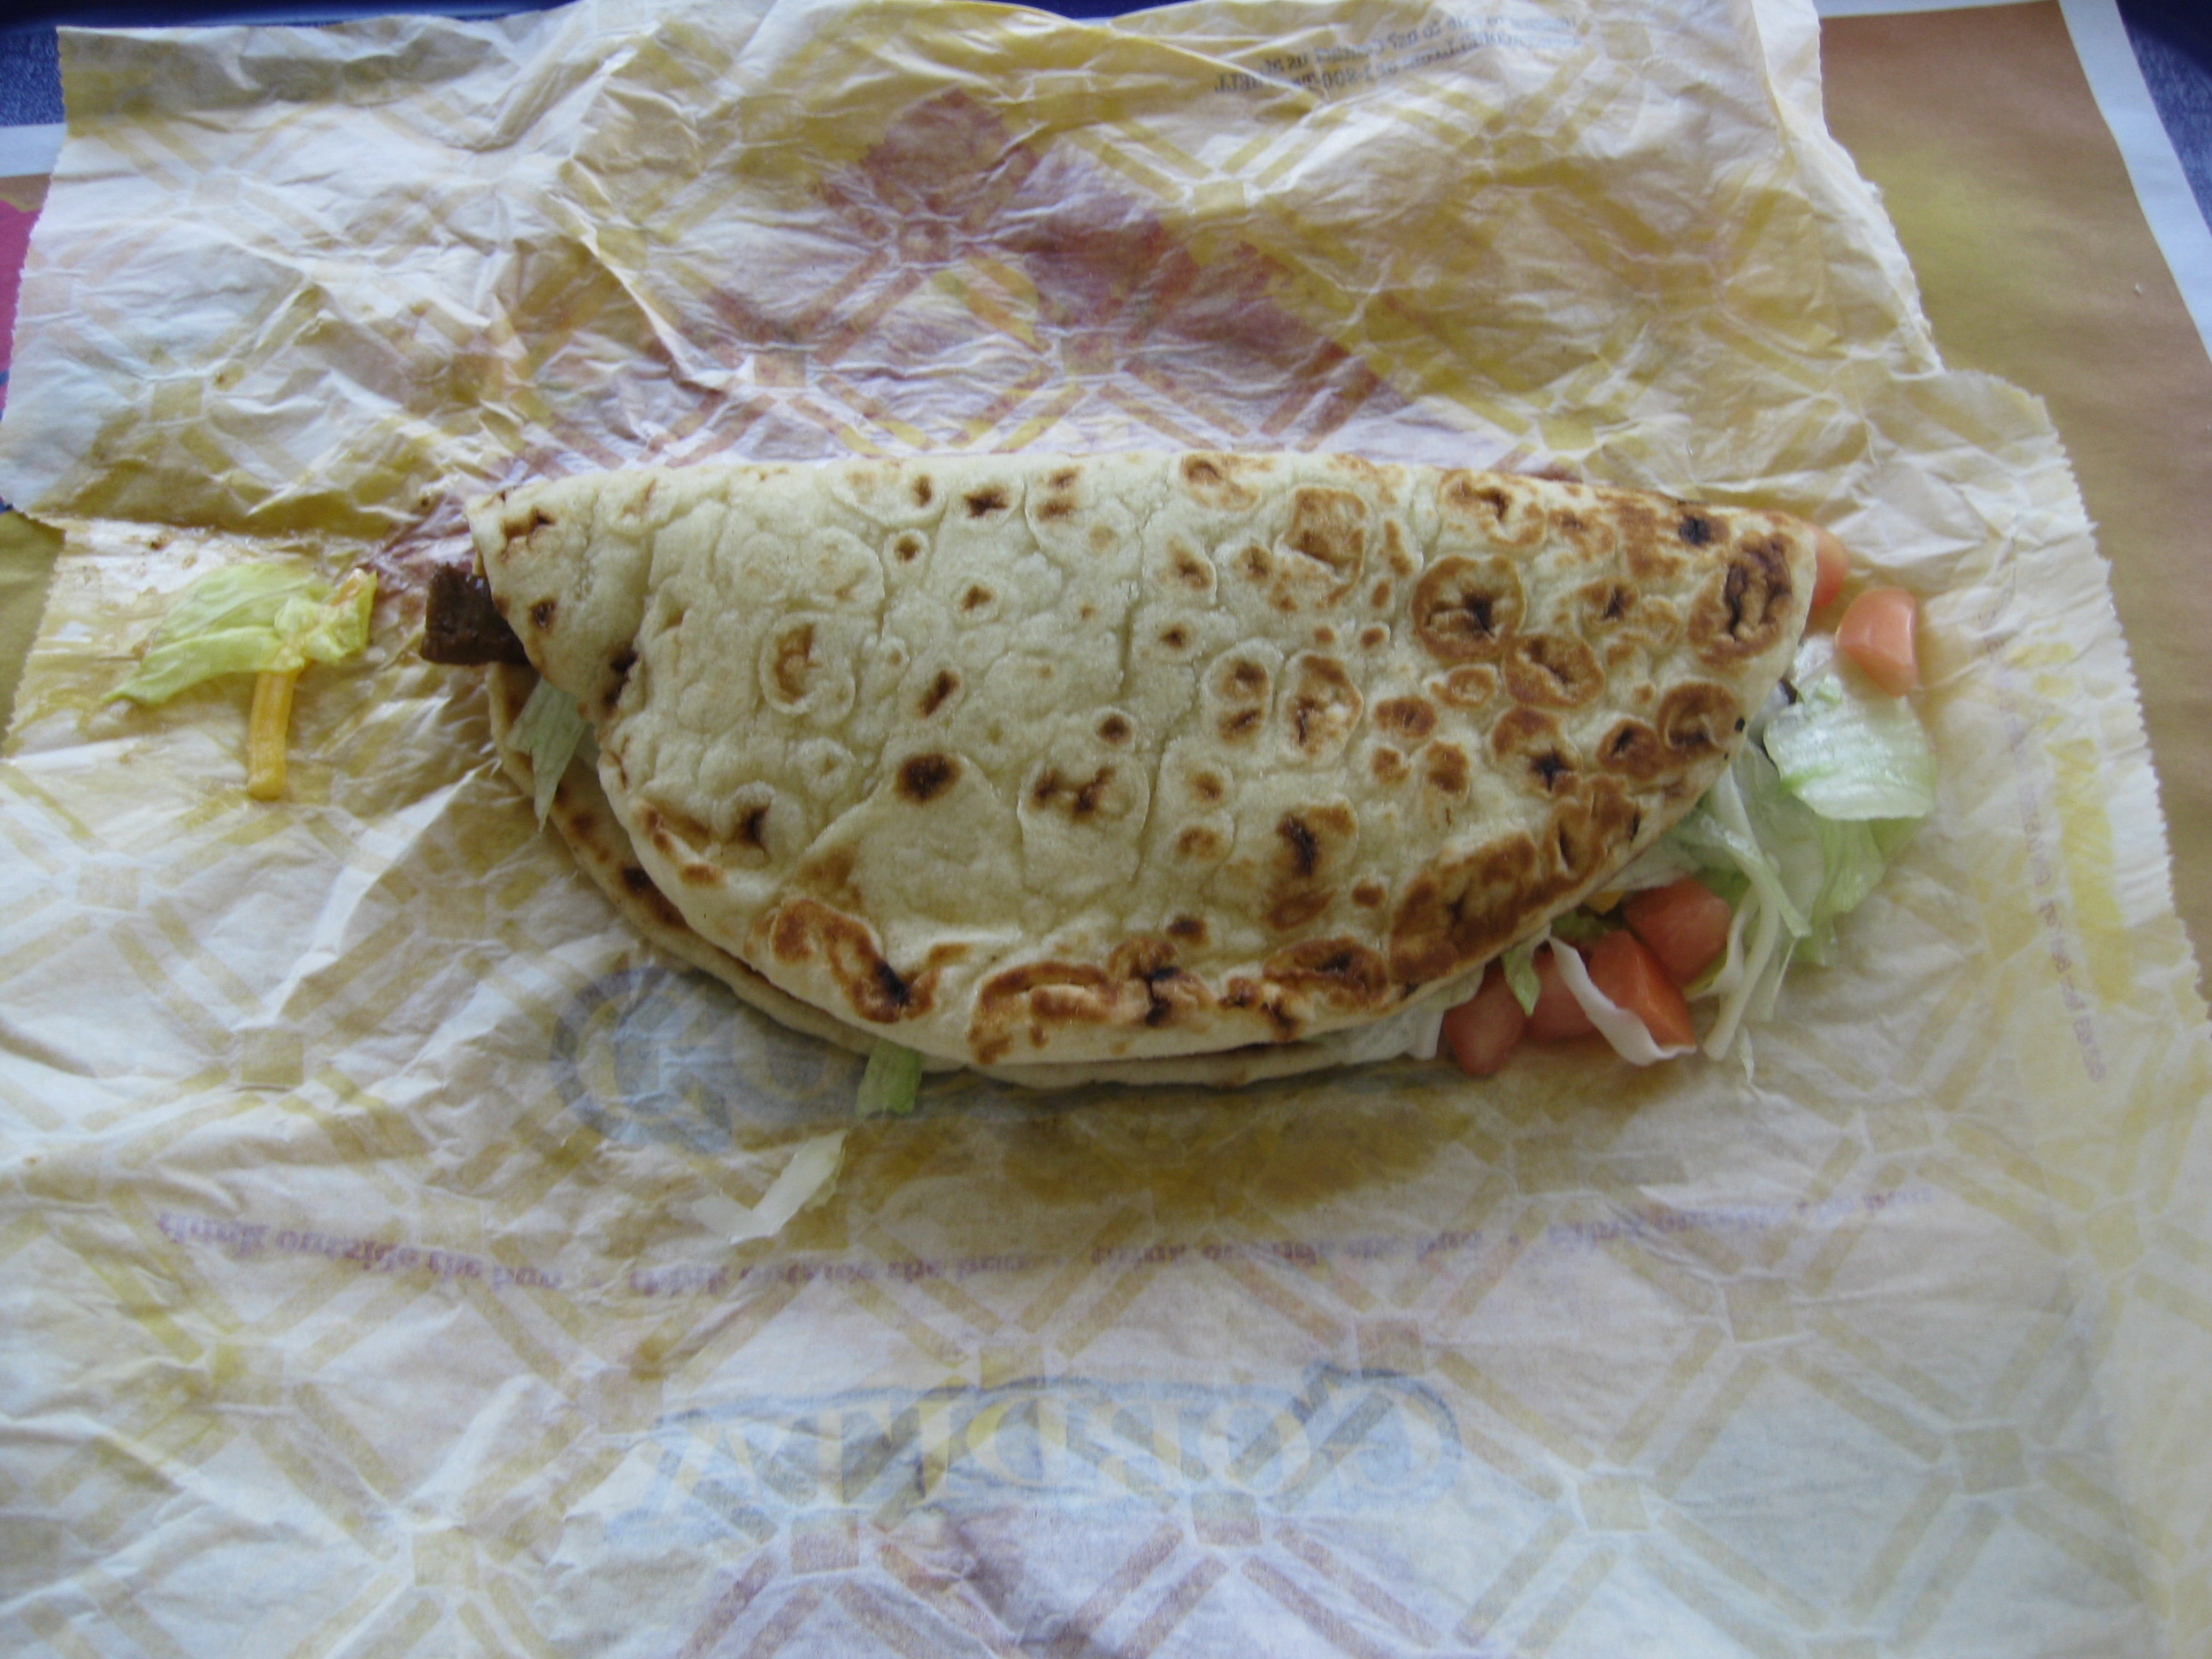taco: (353, 336, 2105, 1241)
